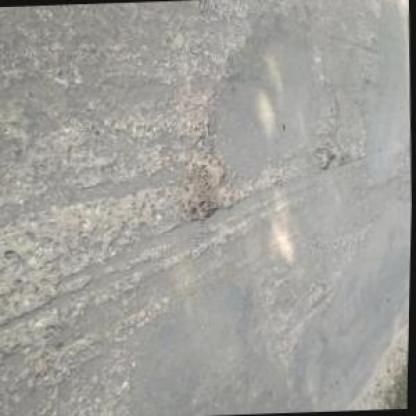pothole: (179, 148, 233, 225), (313, 146, 337, 172)
